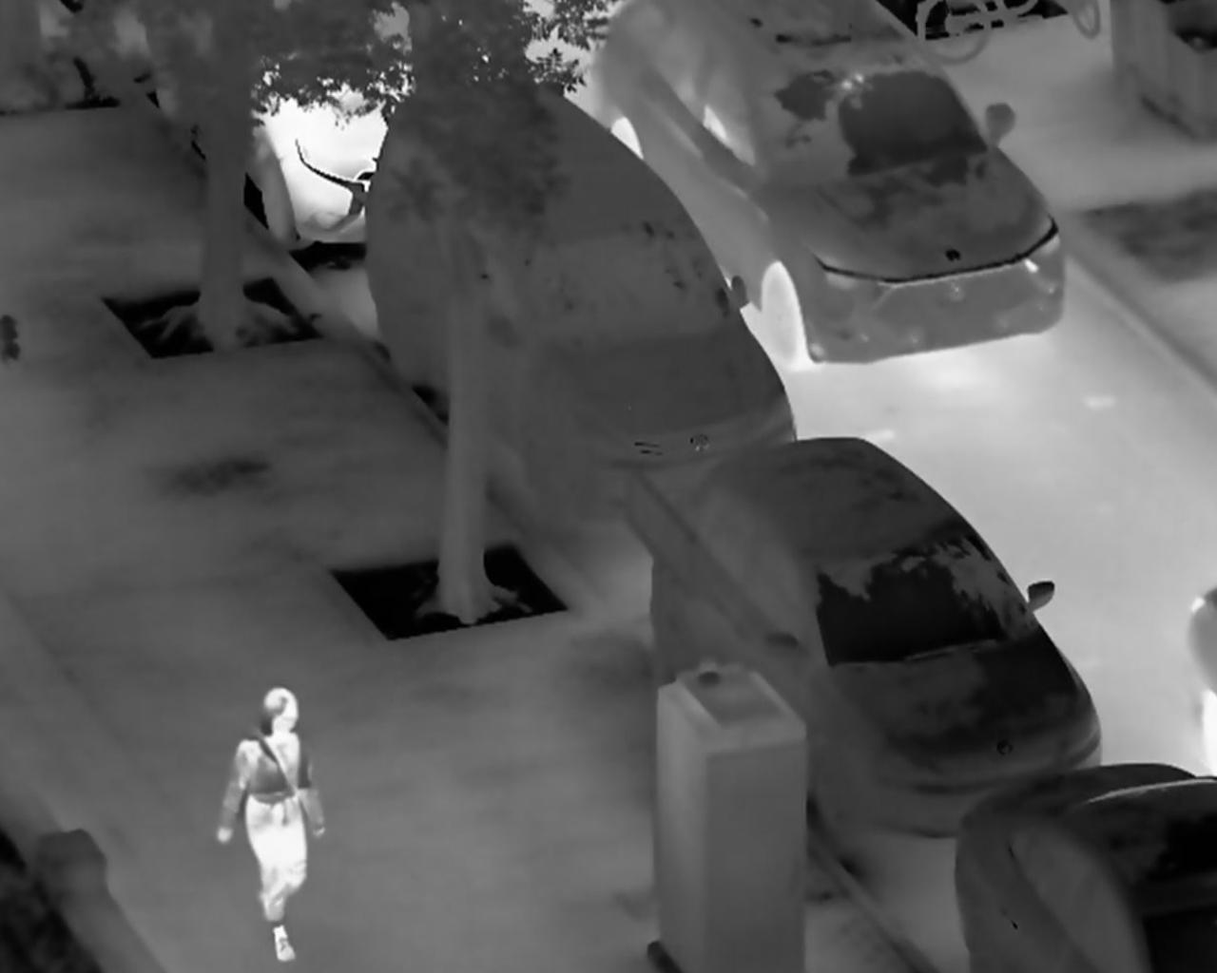person: (216, 684, 328, 963)
